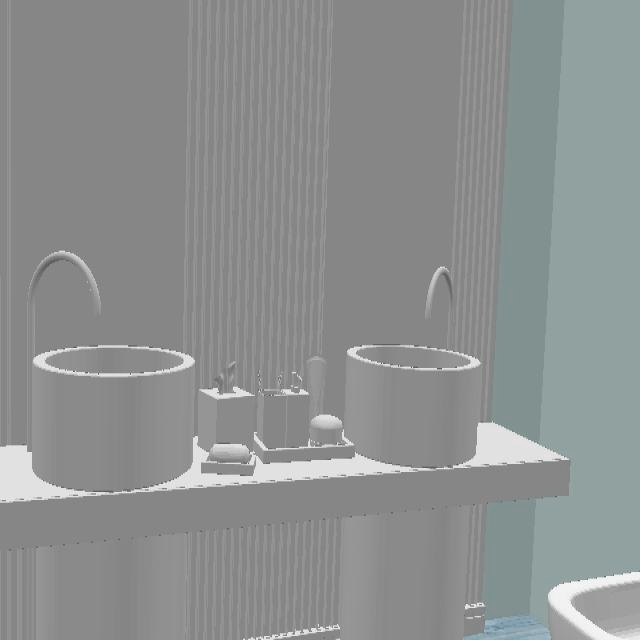washbasin: (31, 344, 195, 493), (343, 344, 484, 469), (546, 572, 640, 640)
